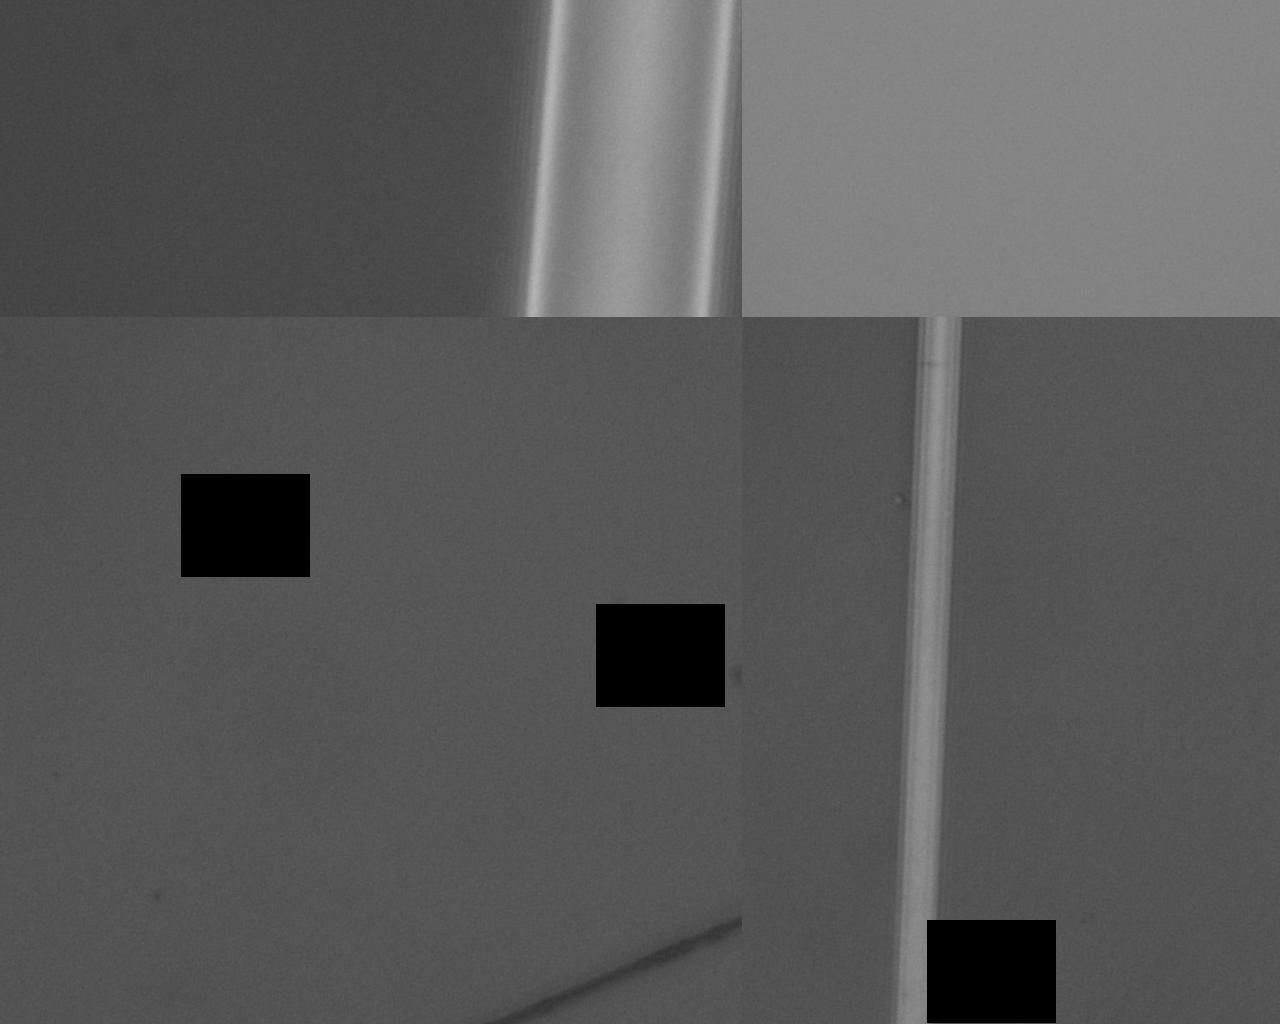fiber: (983, 0, 1208, 1024)
